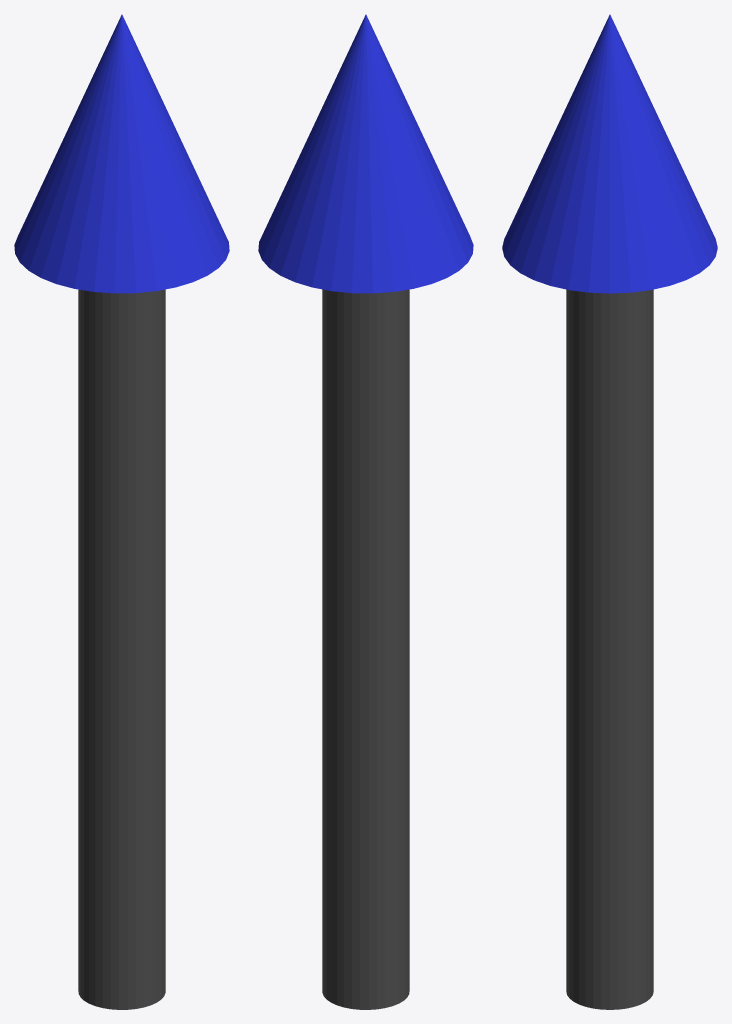
Rendered from VectorArrow.fbx.
3 renders of one model, left to right at view 1: azimuth 30°, elevation 25°; view 2: azimuth 150°, elevation 25°; view 3: azimuth 270°, elevation 25°, orthographic.
Parts seen in each view (by area): view 1: Arrow; view 2: Arrow; view 3: Arrow.
Part boxes in pixels (box(x1,y1,x2,y2)): Arrow: box(14, 14, 229, 1009); Arrow: box(258, 14, 473, 1009); Arrow: box(502, 14, 717, 1009).
Size of the model in its own units: 200 by 1000 by 200.
